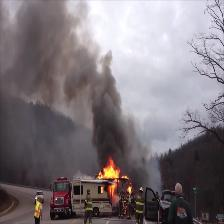fire: (96, 152, 120, 183)
smoke: (13, 10, 75, 87), (93, 90, 122, 144)
